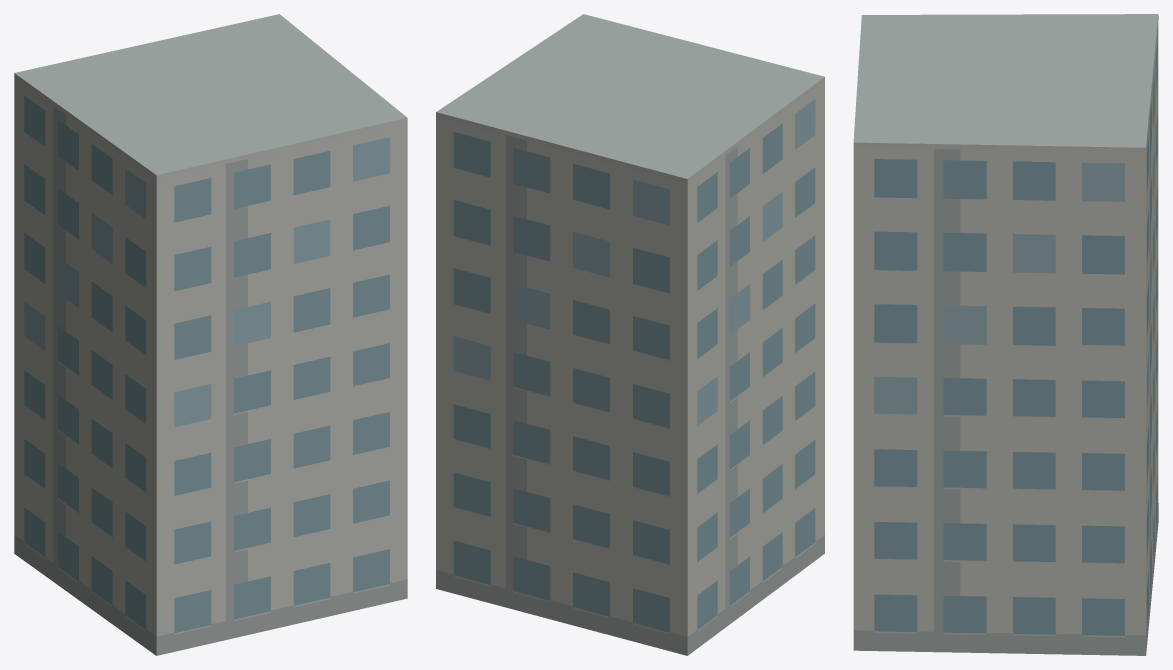
Rendered from survey-upis-32815185.glb.
3 renders of one model, left to right at view 1: azimuth 30°, elevation 25°; view 2: azimuth 150°, elevation 25°; view 3: azimuth 270°, elevation 25°, orthographic. The views are drawn at different scales.
Visible parts, largest first — view 1: survey-upis-32815185.tmp; view 2: survey-upis-32815185.tmp; view 3: survey-upis-32815185.tmp.
Part boxes in pixels (x1=…): survey-upis-32815185.tmp: x1=14, y1=14, x2=407, y2=655; survey-upis-32815185.tmp: x1=436, y1=14, x2=824, y2=655; survey-upis-32815185.tmp: x1=853, y1=14, x2=1158, y2=655.
Size of the model in its own units: 14.24 by 25.2 by 13.72.
